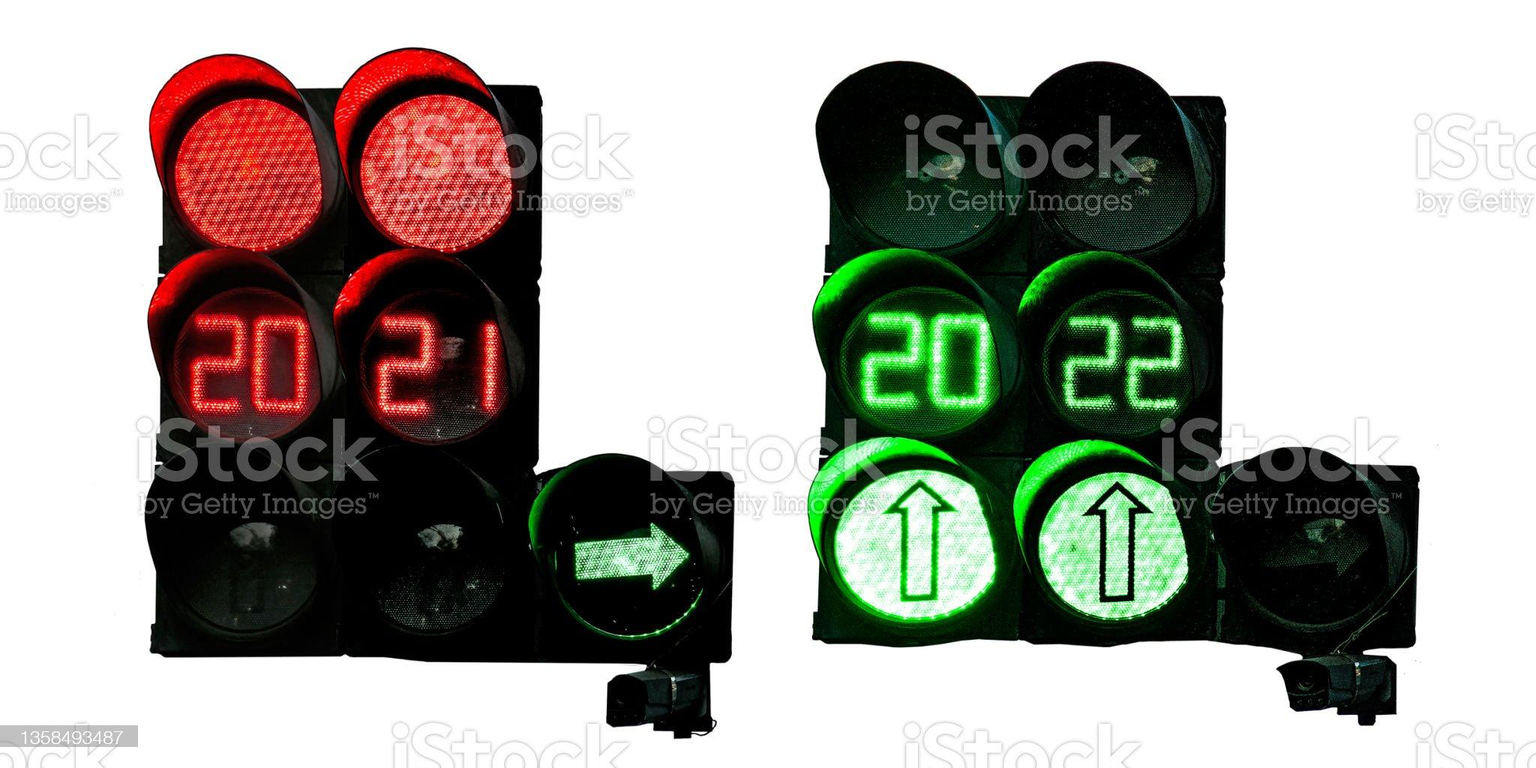Traffic light green: (806, 64, 1230, 636)
